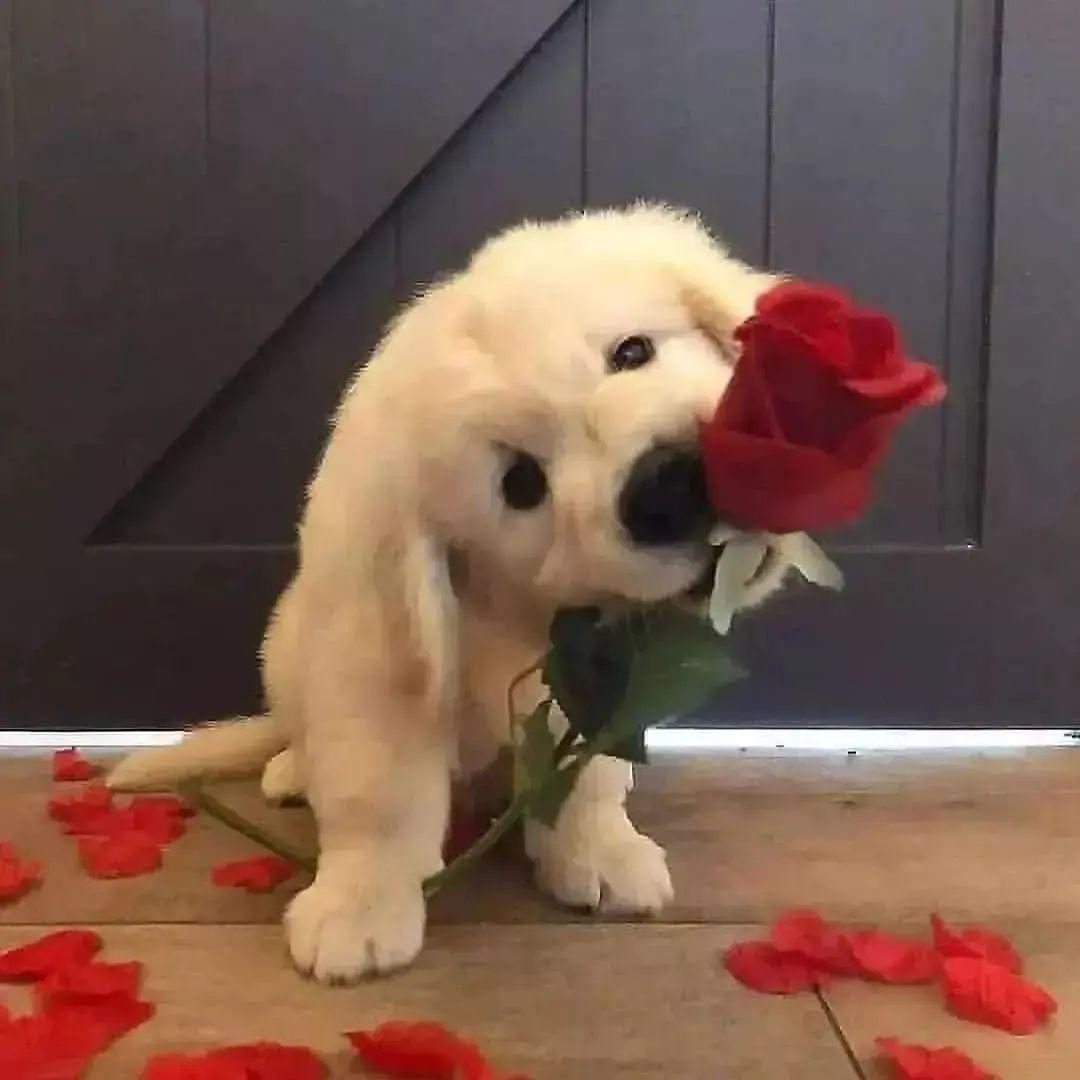puppy-dog: (102, 196, 809, 982)
